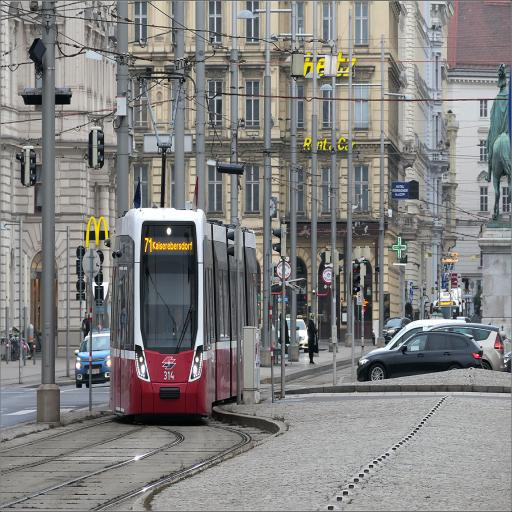Flexity: (108, 206, 258, 416)
